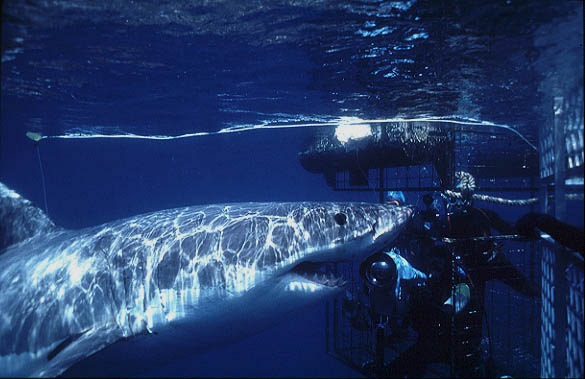Carcharodon_carcharias: (1, 192, 421, 379)
